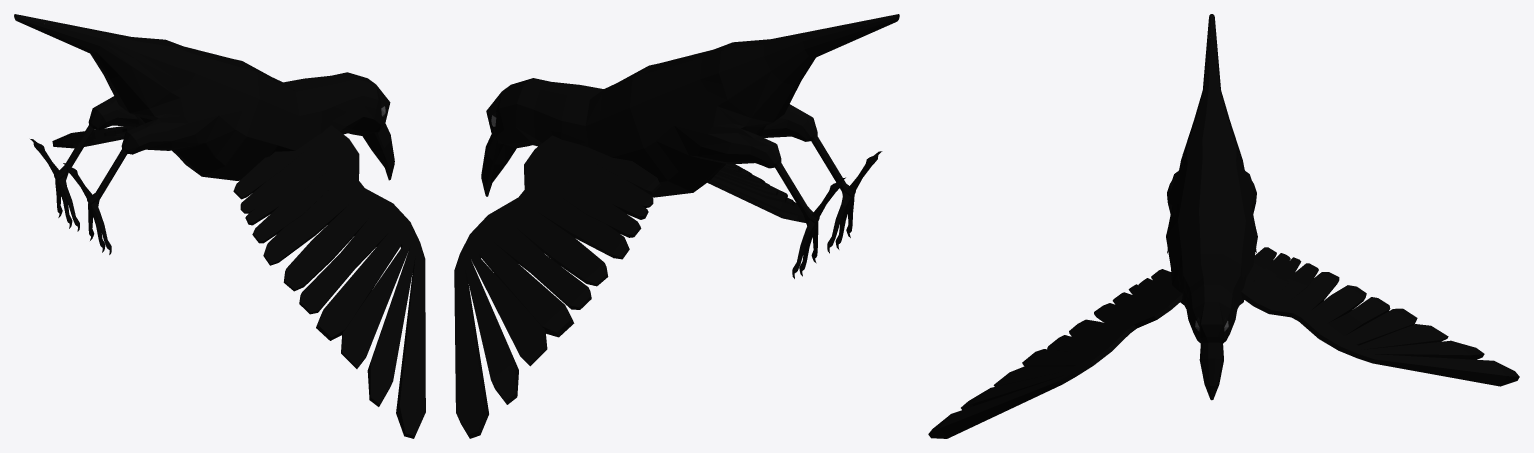
File: crow_down_000009.obj
The picture shows the model from 3 angles, left to right: view 1: azimuth 30°, elevation 25°; view 2: azimuth 150°, elevation 25°; view 3: azimuth 270°, elevation 25°; orthographic projection. The views are drawn at different scales.
Parts seen in each view (by area): view 1: Cylinder; view 2: Cylinder; view 3: Cylinder.
Part boxes in pixels (x1,y1,x2,y2): Cylinder: (14, 14, 425, 438); Cylinder: (454, 14, 899, 438); Cylinder: (928, 14, 1519, 438).
Bounding box in the file's own units: 1.37 × 1.27 × 2.11.
